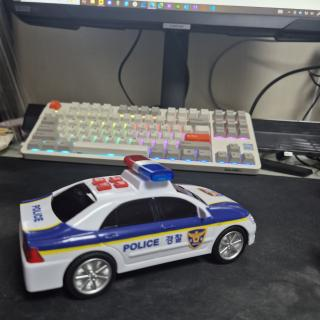Police_car: (20, 156, 256, 299)
